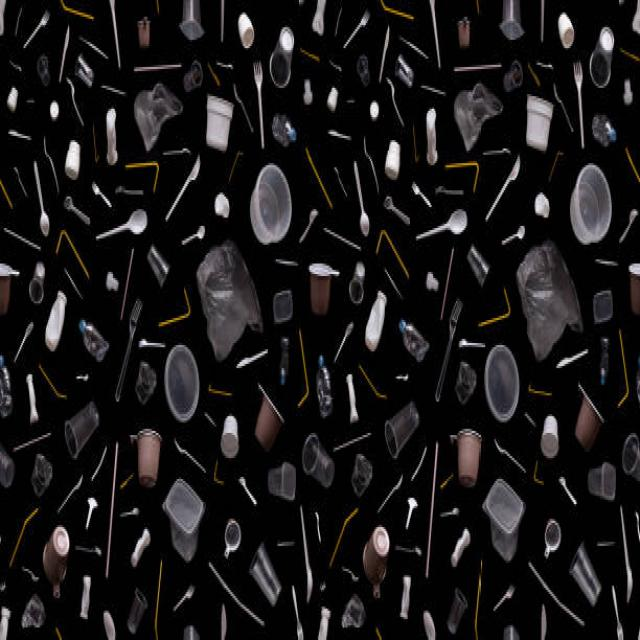plastic: (31, 8, 592, 600)
